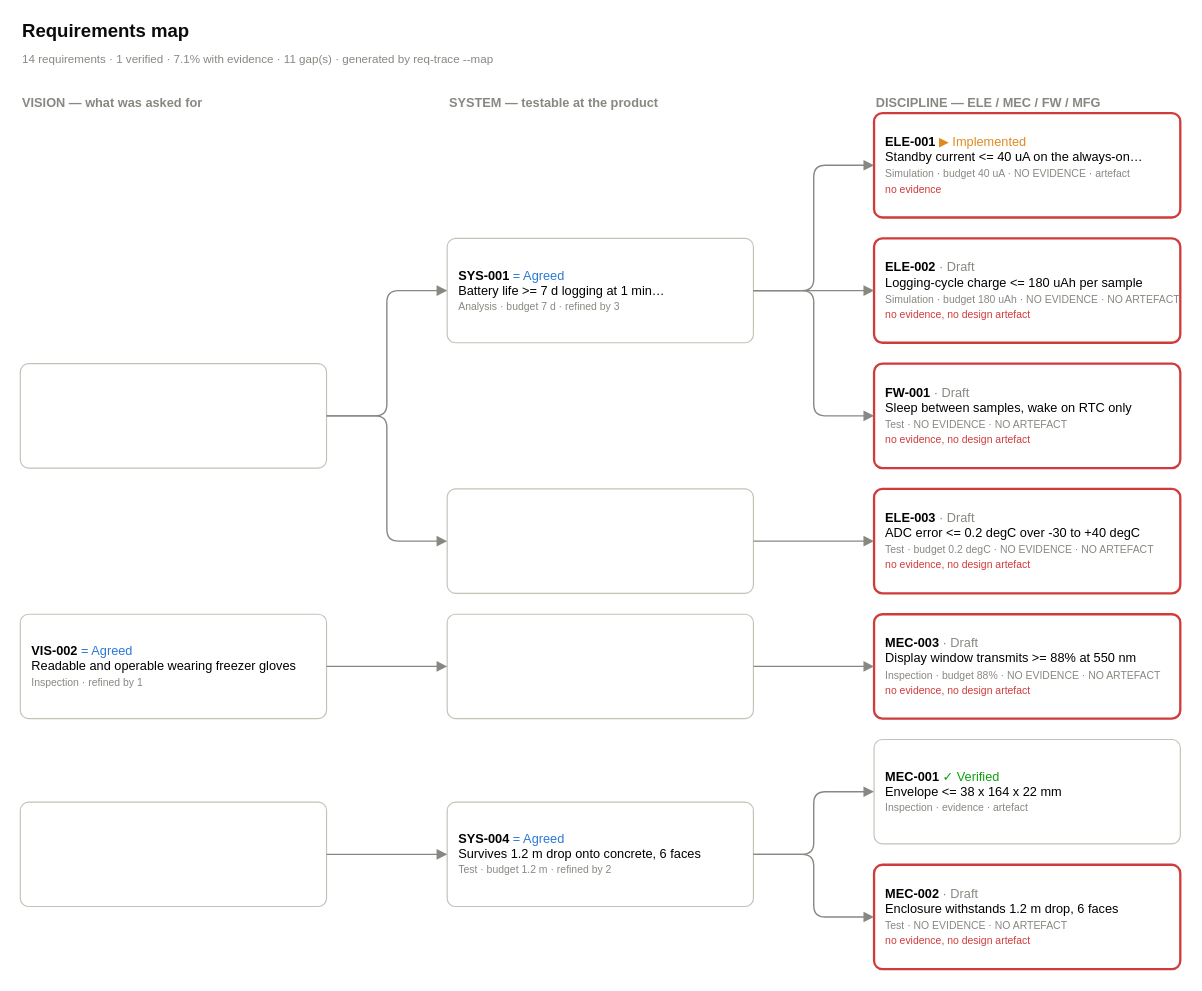
Image size: 1202x991. Some labels were removed from this diagram. Each missing label, with the centre of its shape:
"SYS-002 = Agreed Operating range -30 to +40 degC Test · refined by 1" goes at point 599,540.
"SYS-003 = Agreed Display legible at 500 mm in 50 lx Inspection · refined by 1" goes at point 599,666.
"VIS-001 = Agreed A week in a freezer on one charge Inspection · refined by 2" goes at point 173,415.
"VIS-003 = Agreed Survives being dropped on a concrete floor Test · refined by 1" goes at point 173,854.
